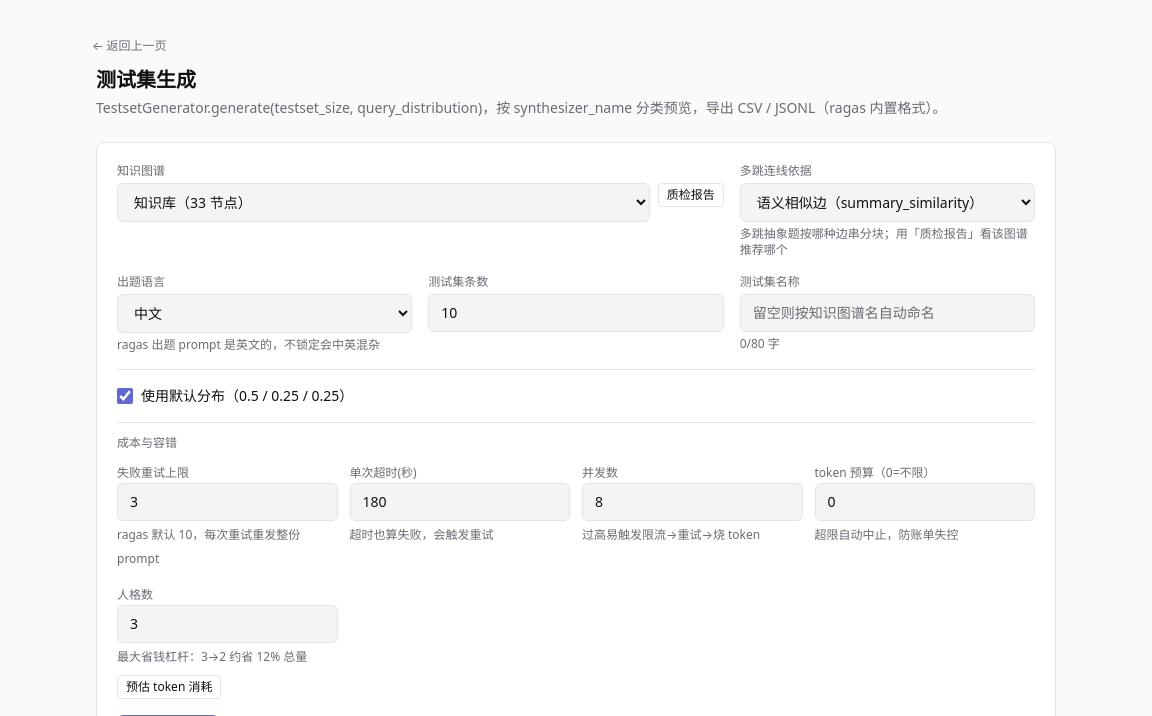
Test case: TestsetPage › 质检报告按所选图谱加载并弹出弹层，可关闭
Click the button "质检报告" at (691, 195), box [658, 183, 724, 207]
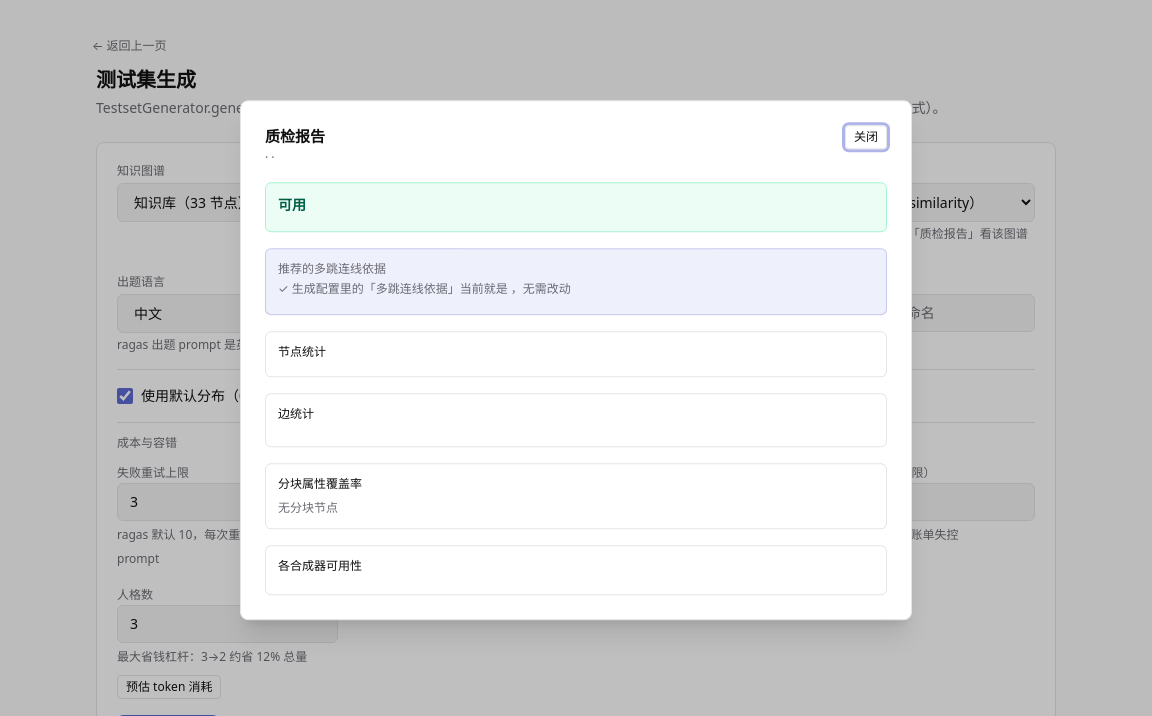
Now the dialog is shown, box [240, 100, 912, 620]
// 弹层标题与按钮同名，这里按 dialog 容器断言，避免文案歧义
Click the button "关闭" at (866, 137), box [845, 125, 887, 149]
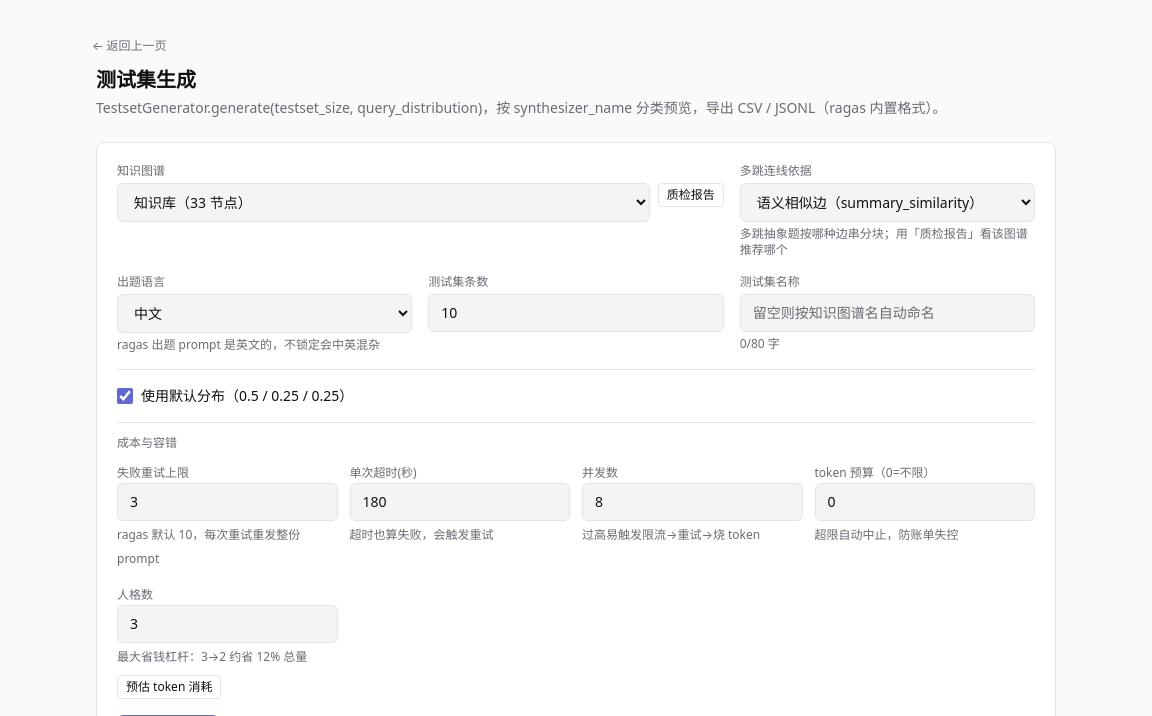
Now the dialog is gone
